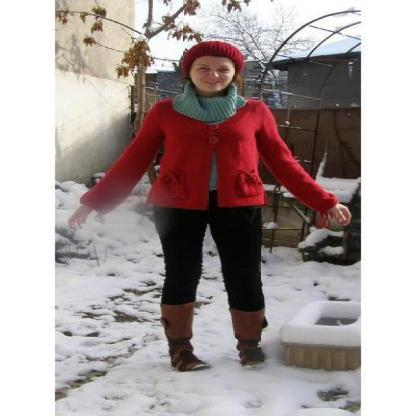hat: (173, 42, 258, 85)
jacket: (82, 99, 336, 213)
pants: (156, 206, 265, 317)
shoe: (157, 303, 267, 372)
